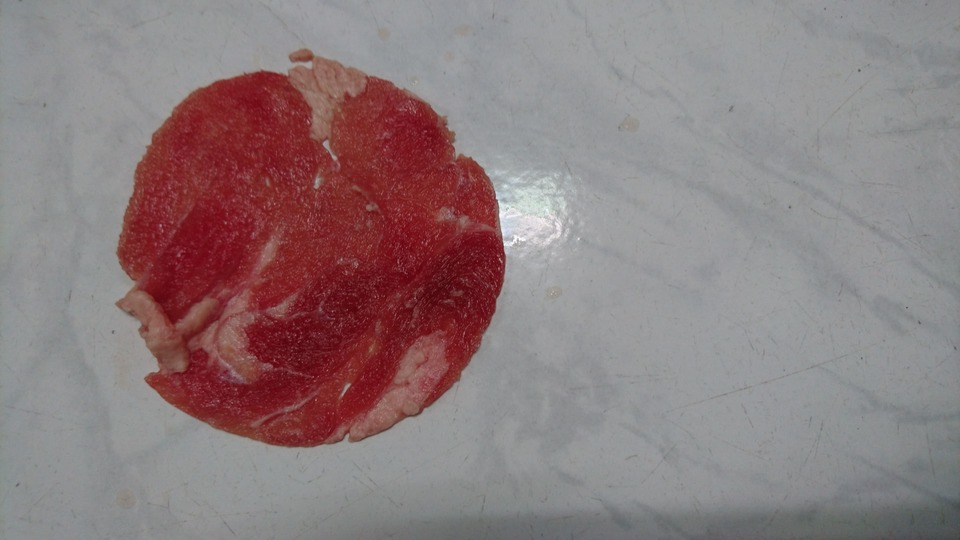restructured meat: (105, 51, 513, 450)
